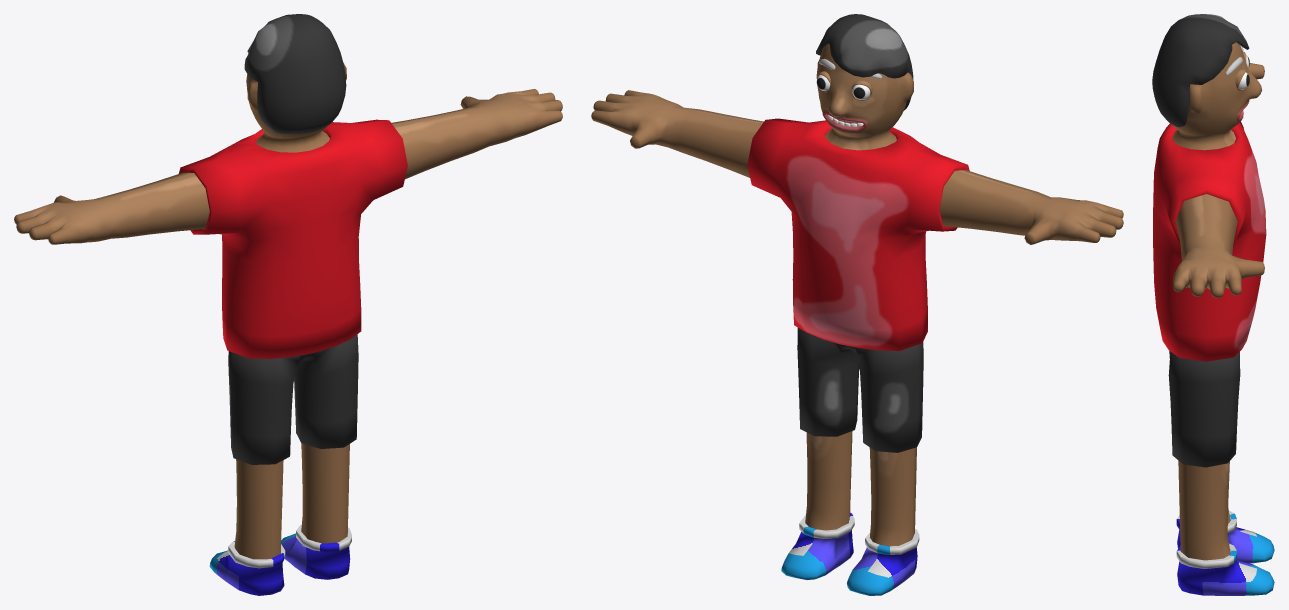
The model's file is Character1 (1).fbx.
3 views of the same model, side by side, from view 1: azimuth 30°, elevation 25°; view 2: azimuth 150°, elevation 25°; view 3: azimuth 270°, elevation 25° (orthographic). The views are drawn at different scales.
Parts seen in each view (by area): view 1: Cube.031, Cube.030, Cube.032, Cube.006, Cube.058, Cube.009; view 2: Cube.031, Cube.030, Cube.032, Cube.006, Cube.009, Cube.058; view 3: Cube.031, Cube.030, Cube.032, Cube.006, Cube.009, Cube.058.
Part boxes in pixels (bbox=[...]): Cube.031: bbox=[178, 119, 407, 358]; Cube.030: bbox=[14, 63, 562, 559]; Cube.032: bbox=[228, 334, 358, 464]; Cube.006: bbox=[244, 14, 346, 133]; Cube.058: bbox=[209, 541, 285, 595]; Cube.009: bbox=[281, 525, 351, 579]; Cube.031: bbox=[747, 118, 969, 350]; Cube.030: bbox=[591, 44, 1123, 546]; Cube.032: bbox=[797, 327, 923, 452]; Cube.006: bbox=[816, 14, 913, 110]; Cube.009: bbox=[781, 512, 854, 579]; Cube.058: bbox=[847, 529, 919, 595]; Cube.031: bbox=[1153, 121, 1266, 361]; Cube.030: bbox=[1172, 42, 1264, 560]; Cube.032: bbox=[1168, 351, 1240, 467]; Cube.006: bbox=[1152, 14, 1249, 127]; Cube.009: bbox=[1176, 543, 1274, 595]; Cube.058: bbox=[1176, 510, 1274, 563].
Bounding box in the file's own units: 232 × 46.22 × 230.
